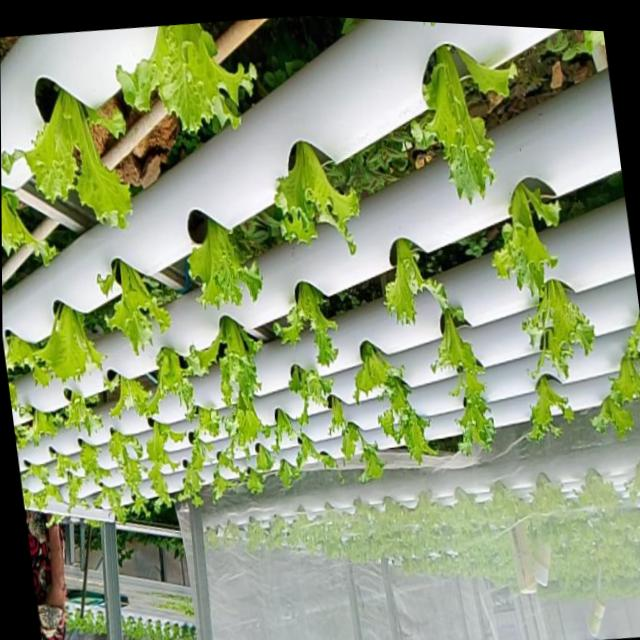Baby: (1, 94, 129, 231), (115, 25, 253, 135), (407, 46, 487, 203), (426, 298, 488, 450), (271, 141, 354, 253), (485, 180, 551, 293), (184, 209, 258, 306), (516, 277, 586, 374), (99, 258, 167, 353), (33, 303, 103, 385), (379, 236, 442, 322), (269, 280, 334, 363), (374, 373, 430, 460), (134, 344, 197, 416), (104, 428, 144, 511), (275, 361, 328, 421), (218, 388, 266, 451), (600, 331, 640, 405), (348, 338, 397, 398), (521, 371, 566, 436), (75, 441, 104, 483), (89, 485, 122, 521), (212, 445, 235, 477), (193, 405, 216, 435), (62, 471, 78, 509)
